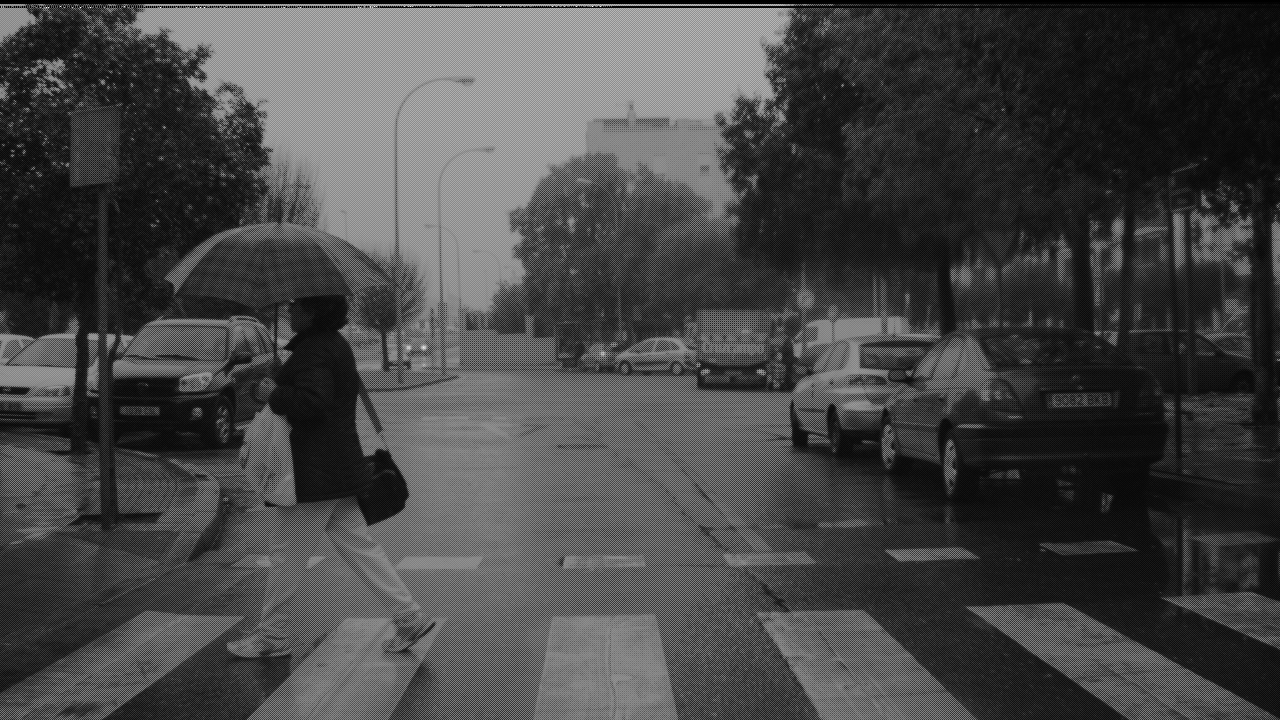pole: (1161, 187, 1181, 519), (877, 111, 888, 374), (834, 171, 845, 369)
